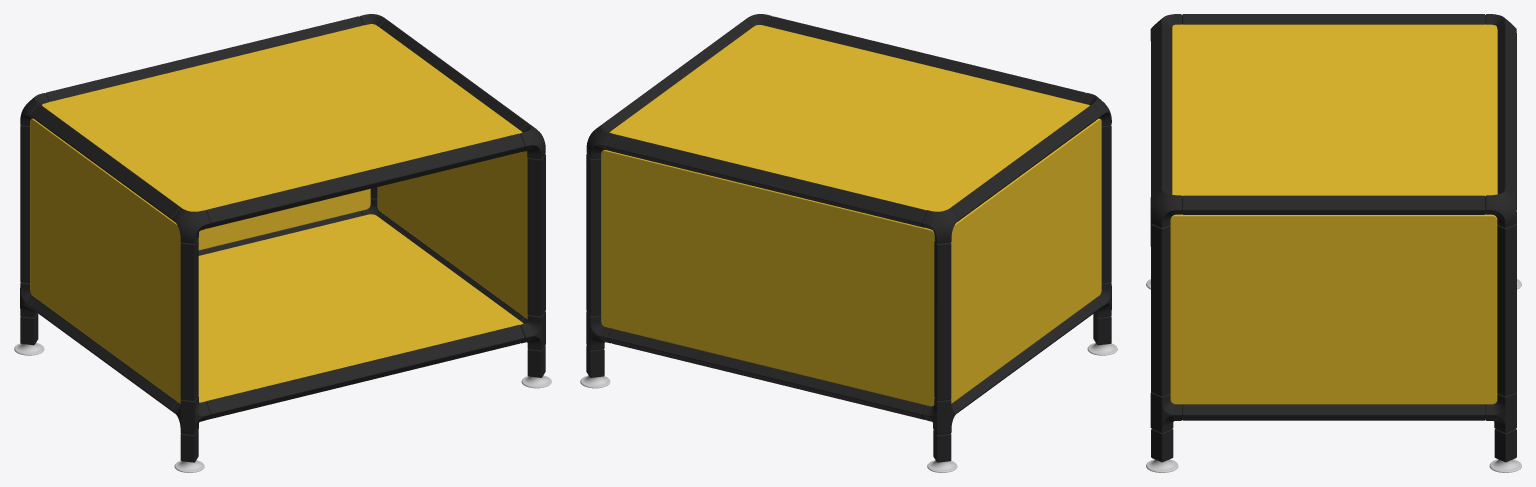
3 views of the same model, side by side, from view 1: azimuth 30°, elevation 25°; view 2: azimuth 150°, elevation 25°; view 3: azimuth 270°, elevation 25° (orthographic). The views are drawn at different scales.
Visible parts, largest first — view 1: 479x374x229; view 2: 479x374x229; view 3: 479x374x229.
Part boxes in pixels (x1,y1,x2,y2): 479x374x229: (14, 14, 551, 472); 479x374x229: (580, 14, 1117, 472); 479x374x229: (1146, 14, 1521, 472).
Bounding box in the file's own units: 0.5689 × 0.3683 × 0.4632.
